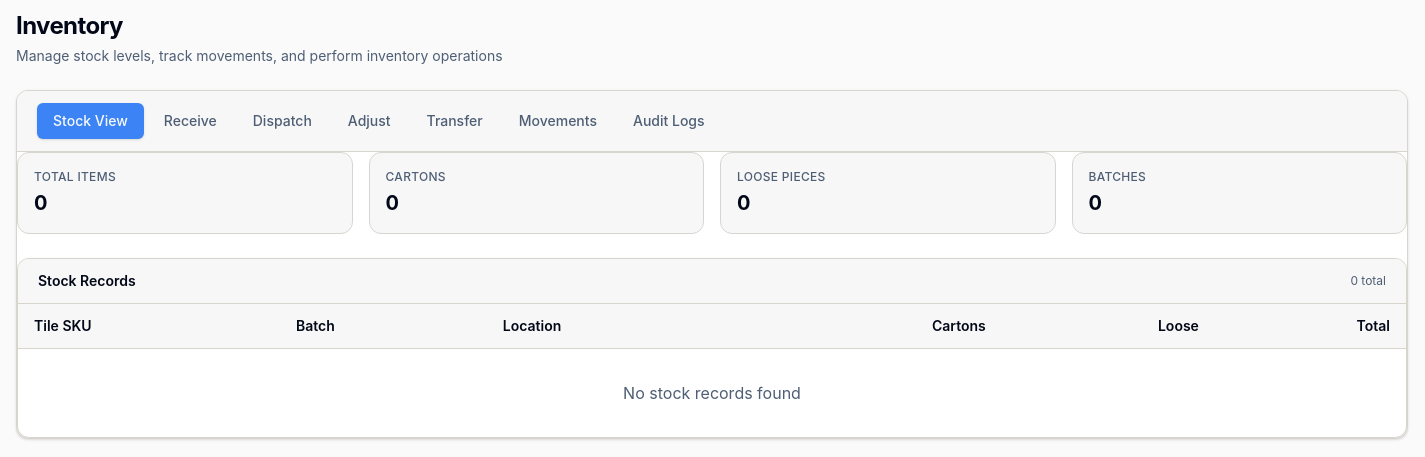
Test: InventoryPage › switches to Audit Logs tab on click
The image size is (1425, 457).
Click the button "Audit Logs". click: click(669, 121)
box: [617,103,721,139]
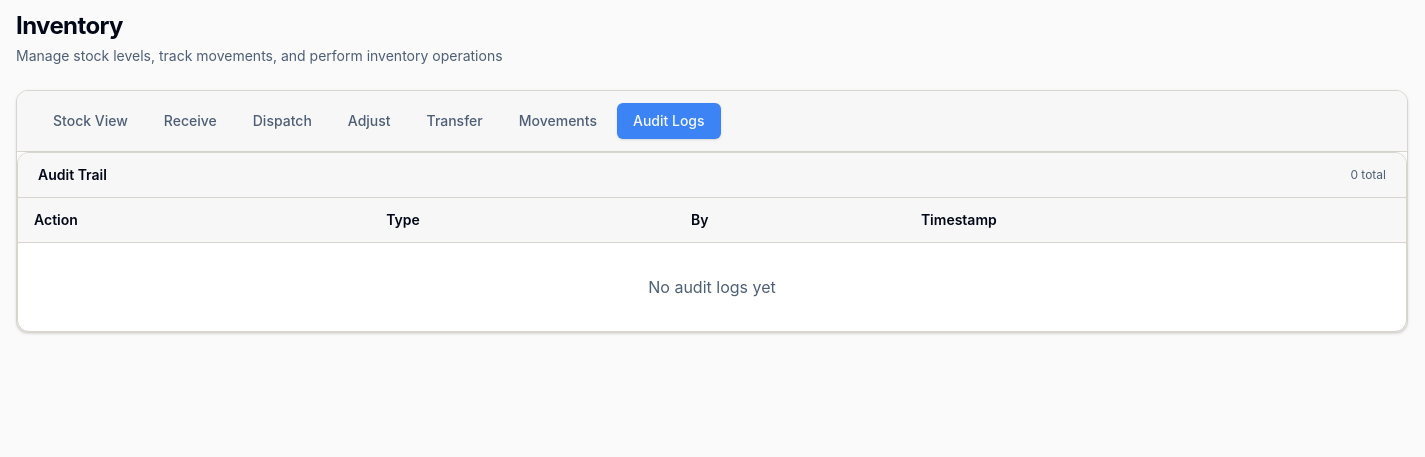
Expected: the text "No audit logs yet" is shown, [18,242,1406,331]
